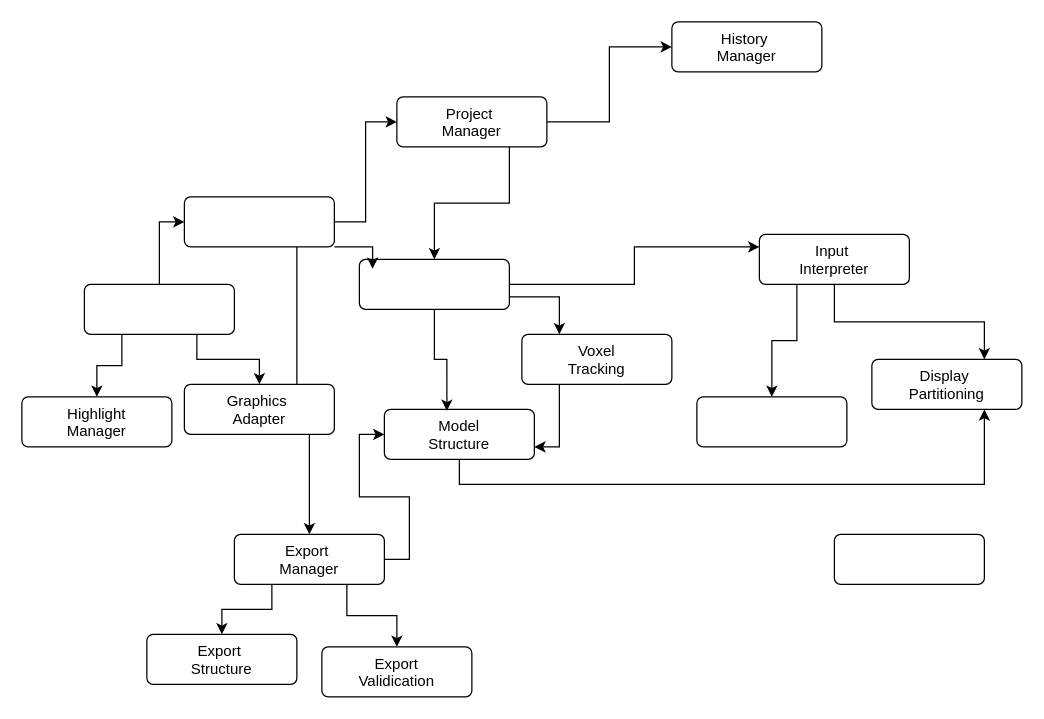
This 1044x719 diagram has some shape labels left out. Here are the shapes that lost their labels. From the top down, the centre of each, then its label:
the point at 258,221: Interaction Controller
the point at 433,283: Model Manager
the point at 158,308: Visualization State Manager
the point at 771,421: Voxel Slicing
the point at 908,558: Error Handler
